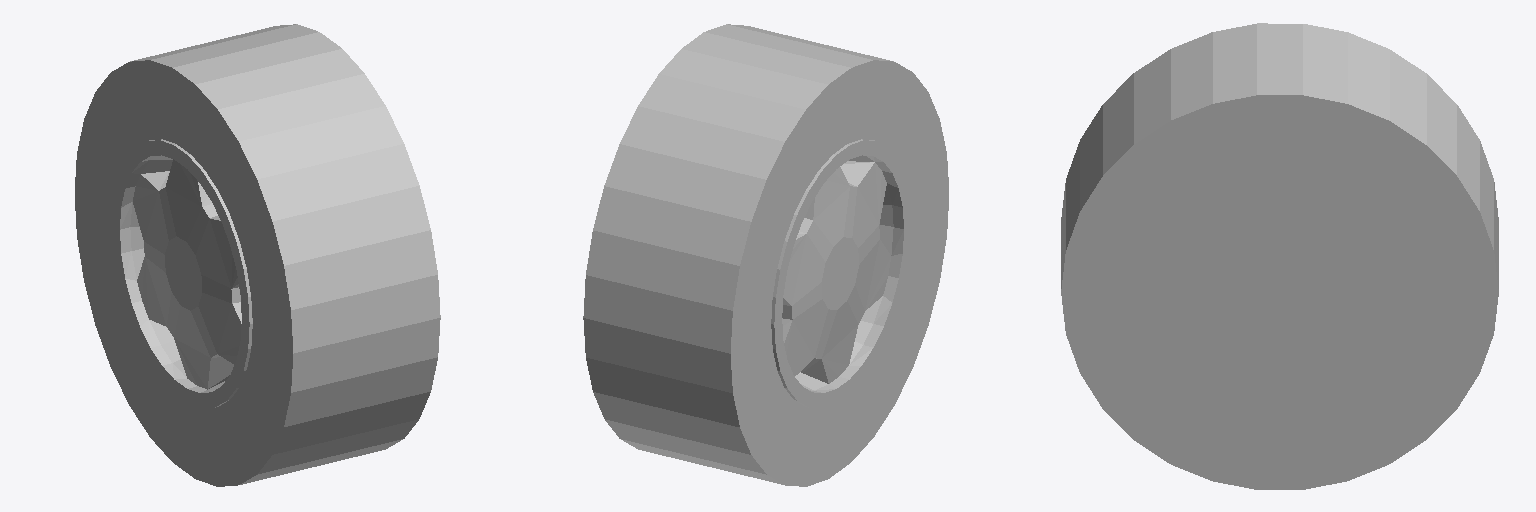
File: llanta2.obj
The picture shows the model from 3 angles: view 1: azimuth 30°, elevation 25°; view 2: azimuth 150°, elevation 25°; view 3: azimuth 270°, elevation 25°; orthographic projection.
Visible parts, largest first — view 1: llanta2; view 2: llanta2; view 3: llanta2.
Boxes of the visible parts, <box> form: llanta2: <box>75,24,440,486</box>; llanta2: <box>583,24,948,486</box>; llanta2: <box>1061,23,1498,489</box>.
Bounding box in the file's own units: 0.0578 × 0.1449 × 0.1457.